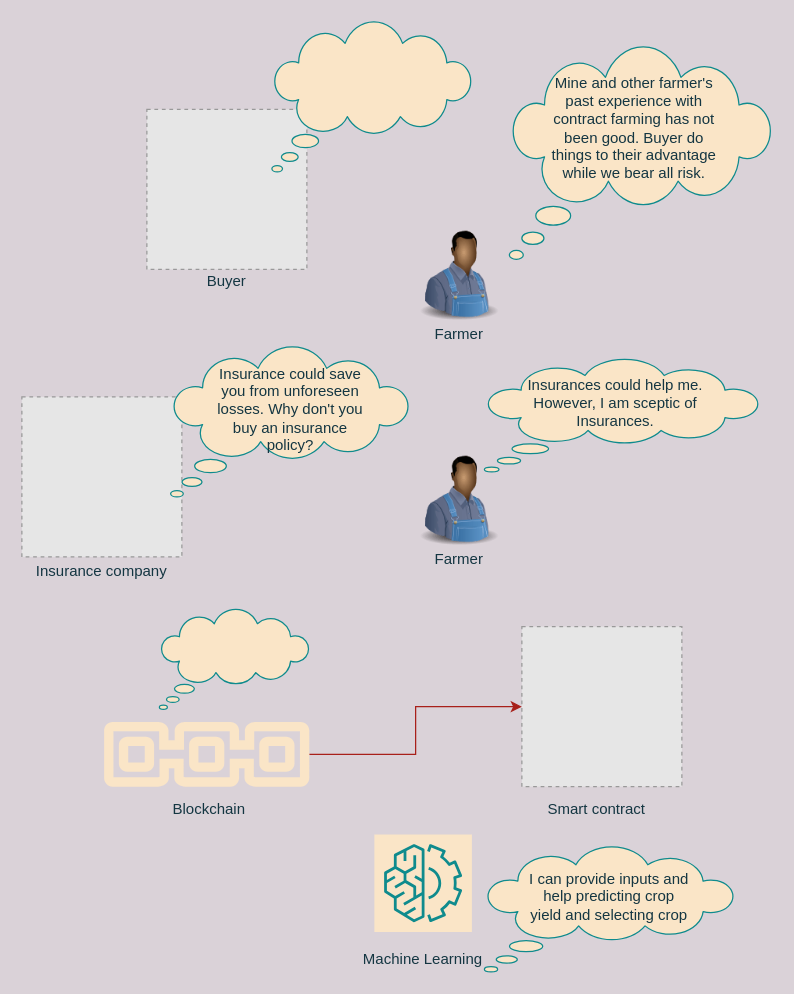
The diagram is 794 pixels wide and 994 high, and some of its shapes have lost their labels. Grey dashed boxes stand in for pictures. The centre of each missing label's shape, as x and y in pixels:
I can solve the problem: point 233,658
Let's do a contract. This will benefit farming and increase your income: point 371,96
